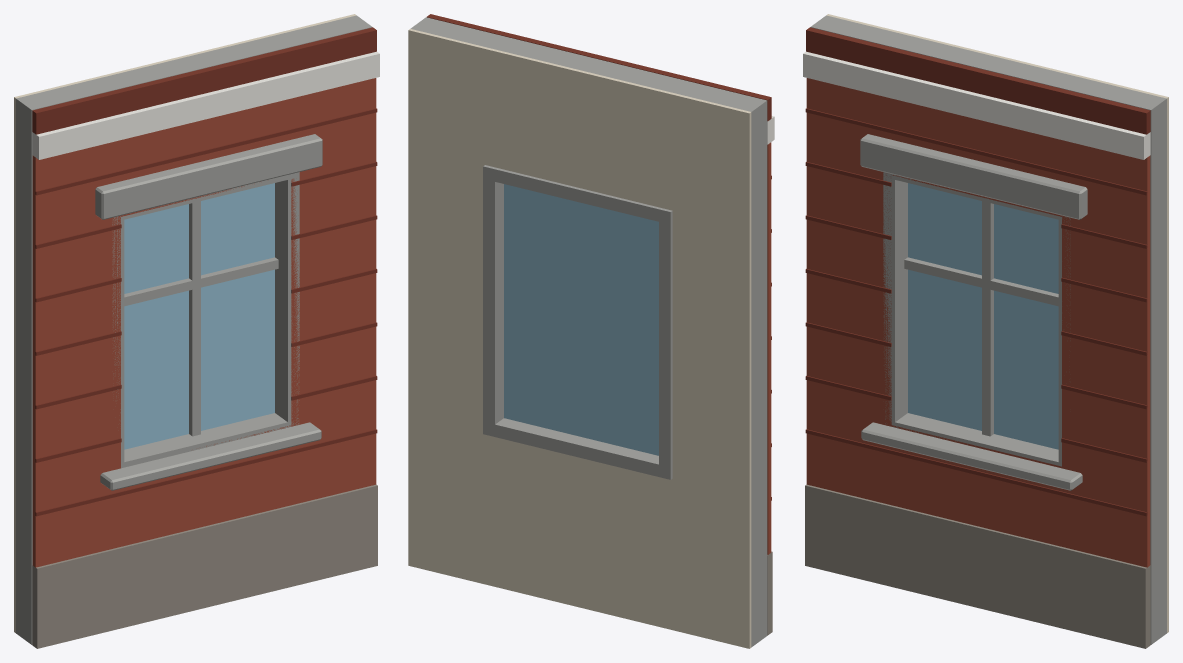
File: Wall_Brick_Window.glb
3 views of the same model, side by side, from view 1: azimuth 30°, elevation 25°; view 2: azimuth 150°, elevation 25°; view 3: azimuth 330°, elevation 25° (orthographic).
Parts seen in each view (by area): view 1: Wall_Brick_Window; view 2: Wall_Brick_Window; view 3: Wall_Brick_Window.
Boxes of the visible parts, x1=… form: Wall_Brick_Window: x1=14, y1=14, x2=379, y2=648; Wall_Brick_Window: x1=408, y1=14, x2=774, y2=648; Wall_Brick_Window: x1=803, y1=14, x2=1168, y2=648.
Bounding box in the file's own units: 2 × 3 × 0.35.
1 material, 1 textured.
